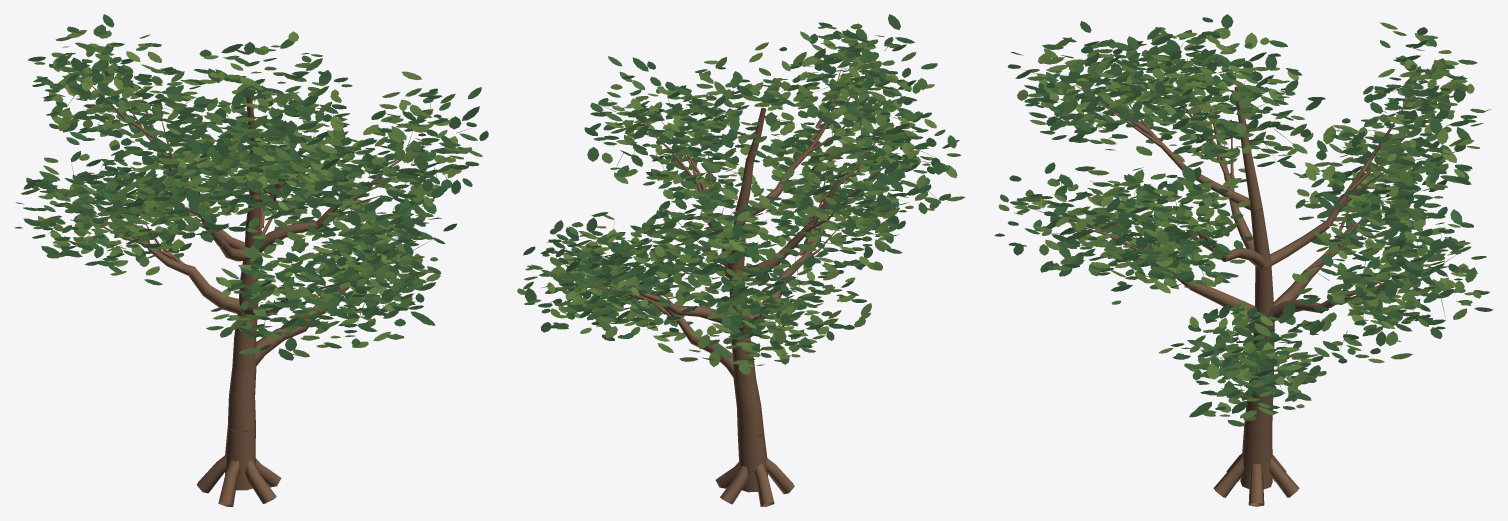
File: Arbousier_0_High.fbx
3 views of the same model, side by side, from view 1: azimuth 30°, elevation 25°; view 2: azimuth 150°, elevation 25°; view 3: azimuth 270°, elevation 25° (orthographic). The views are drawn at different scales.
Parts seen in each view (by area): view 1: Arbousier_0_High; view 2: Arbousier_0_High; view 3: Arbousier_0_High.
Boxes of the visible parts, bbox=[...] form: Arbousier_0_High: bbox=[14, 14, 488, 506]; Arbousier_0_High: bbox=[517, 14, 965, 506]; Arbousier_0_High: bbox=[994, 14, 1493, 506].
Size of the model in its own units: 472 by 526 by 515.
